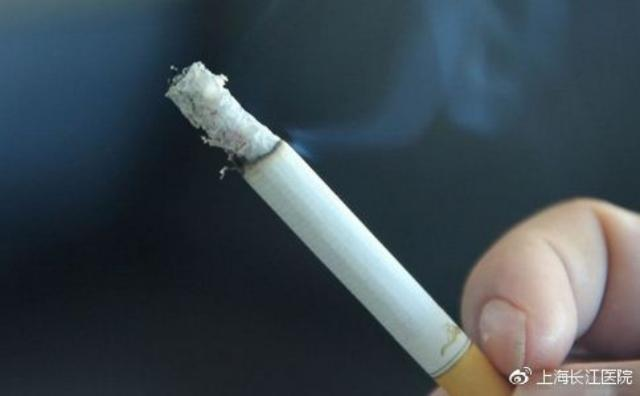Smoking: (150, 56, 512, 395)
